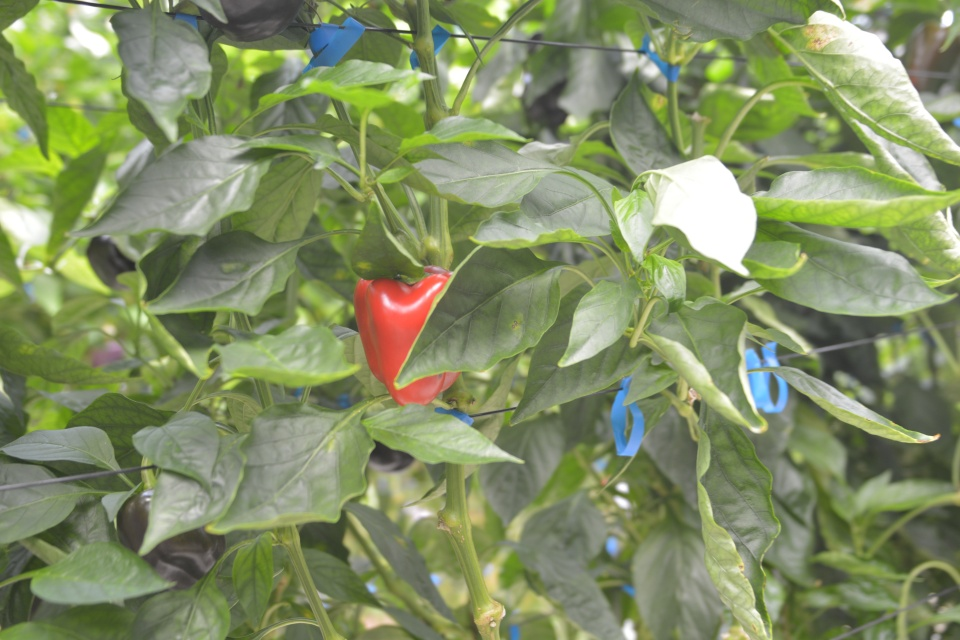fruit: (349, 262, 463, 407), (113, 484, 229, 589), (194, 0, 307, 45), (521, 29, 571, 130), (900, 18, 960, 98), (84, 232, 139, 292), (364, 437, 417, 475)
